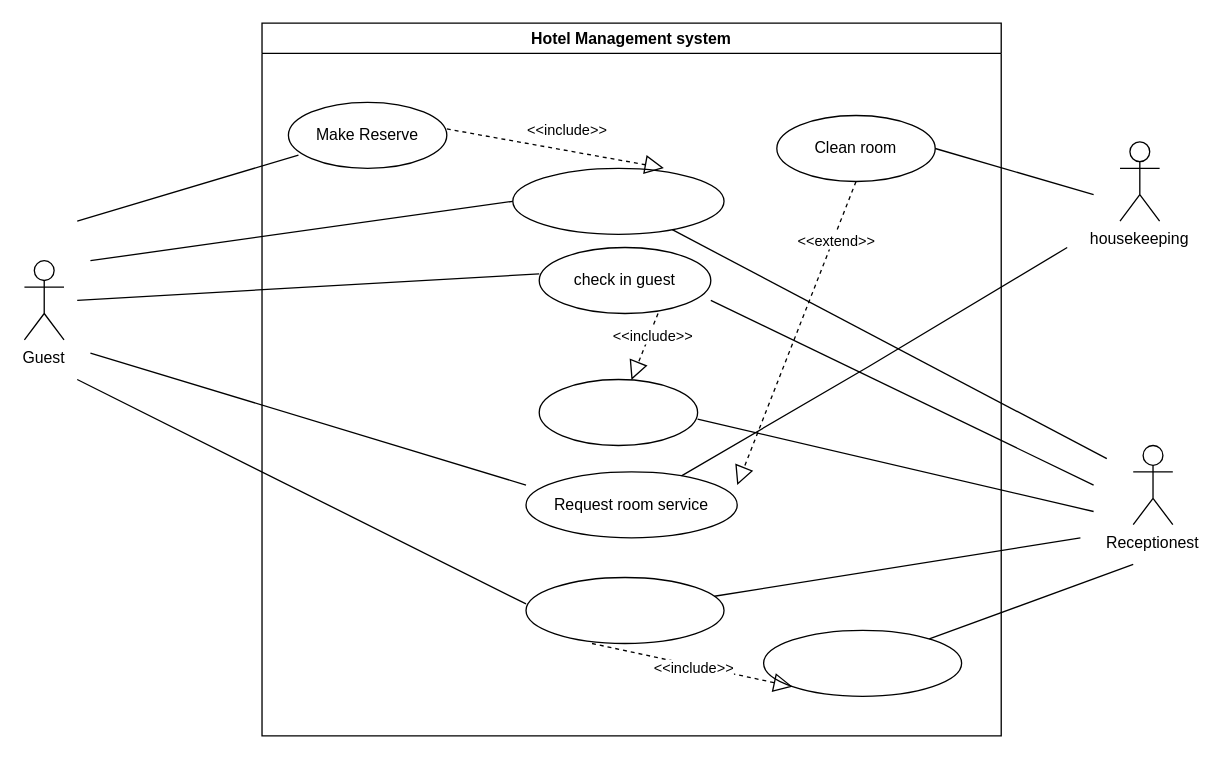
Some shapes in this 1222 by 759 pixel diagram are drawn without their labels. Each missing label, with the centre of its shape:
Assign room: pixel 618 412
check out guest: pixel 624 610
process payment: pixel 862 662
search available rooms: pixel 618 200
